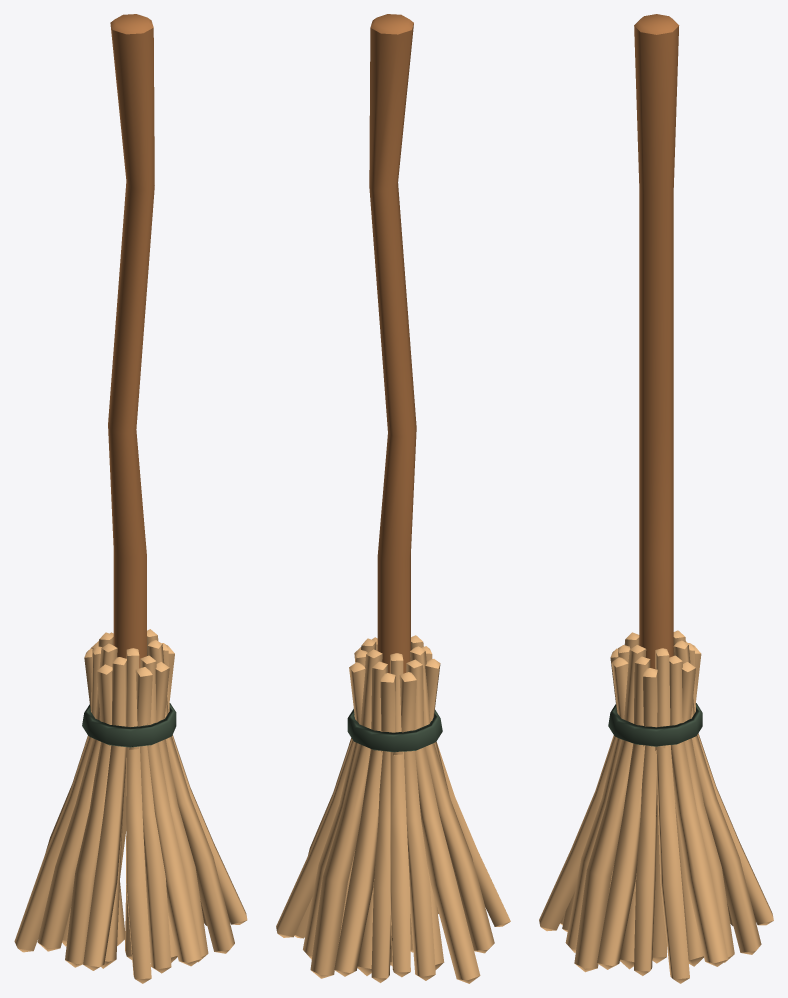
The model's file is Broom.fbx.
3 renders of one model, left to right at view 1: azimuth 30°, elevation 25°; view 2: azimuth 150°, elevation 25°; view 3: azimuth 270°, elevation 25°, orthographic.
Visible parts, largest first — view 1: Broom; view 2: Broom; view 3: Broom.
Boxes of the visible parts, left/top/right/bottom form: Broom: left=14, top=14, right=247, bottom=983; Broom: left=276, top=14, right=510, bottom=983; Broom: left=539, top=14, right=773, bottom=983.
Bounding box in the file's own units: 12.99 × 59.88 × 13.67.
